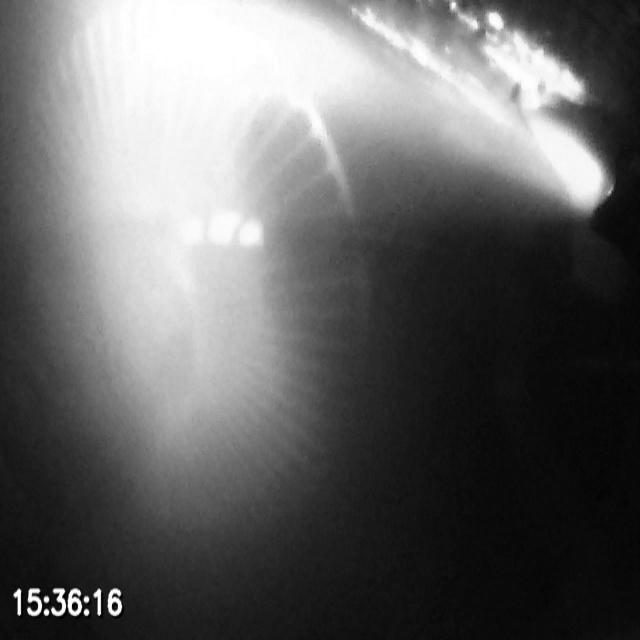white-dots: (178, 209, 266, 248)
